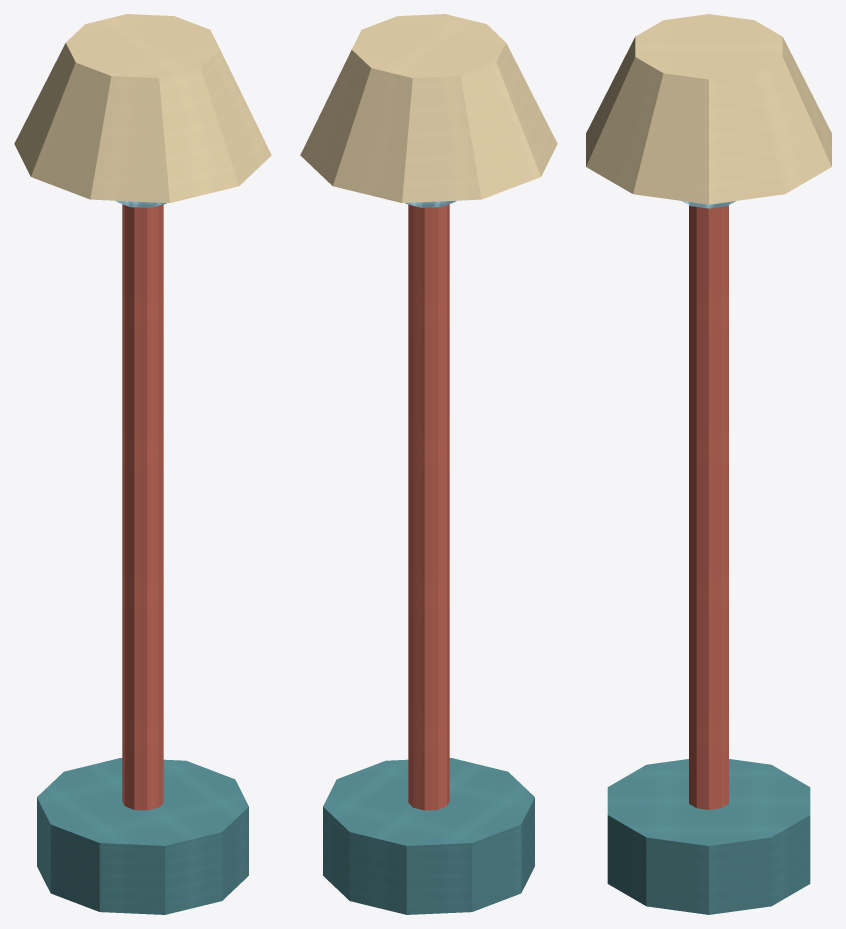
Rendered from atlas100-atompunk-util01.lod1.glb.
3 views of the same model, side by side, from view 1: azimuth 30°, elevation 25°; view 2: azimuth 150°, elevation 25°; view 3: azimuth 270°, elevation 25° (orthographic).
Visible parts, largest first — view 1: atlas100-atompunk-util01:part-002, atlas100-atompunk-util01:part-000, atlas100-atompunk-util01:part-001; view 2: atlas100-atompunk-util01:part-002, atlas100-atompunk-util01:part-000, atlas100-atompunk-util01:part-001; view 3: atlas100-atompunk-util01:part-002, atlas100-atompunk-util01:part-000, atlas100-atompunk-util01:part-001.
Boxes of the visible parts, left/top/right/bottom form: atlas100-atompunk-util01:part-002: left=14, top=14, right=271, bottom=202; atlas100-atompunk-util01:part-000: left=37, top=758, right=248, bottom=914; atlas100-atompunk-util01:part-001: left=122, top=204, right=163, bottom=810; atlas100-atompunk-util01:part-002: left=300, top=14, right=557, bottom=202; atlas100-atompunk-util01:part-000: left=323, top=758, right=534, bottom=914; atlas100-atompunk-util01:part-001: left=408, top=204, right=449, bottom=810; atlas100-atompunk-util01:part-002: left=586, top=14, right=831, bottom=204; atlas100-atompunk-util01:part-000: left=607, top=759, right=810, bottom=914; atlas100-atompunk-util01:part-001: left=689, top=205, right=728, bottom=809.
Bounding box in the file's own units: 0.68 × 2.39 × 0.6467.
Materials: 4 (4 with a texture image).
